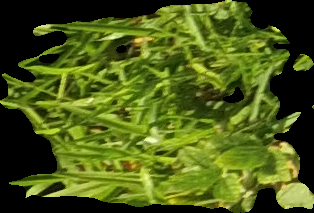grass: (1, 1, 312, 212)
